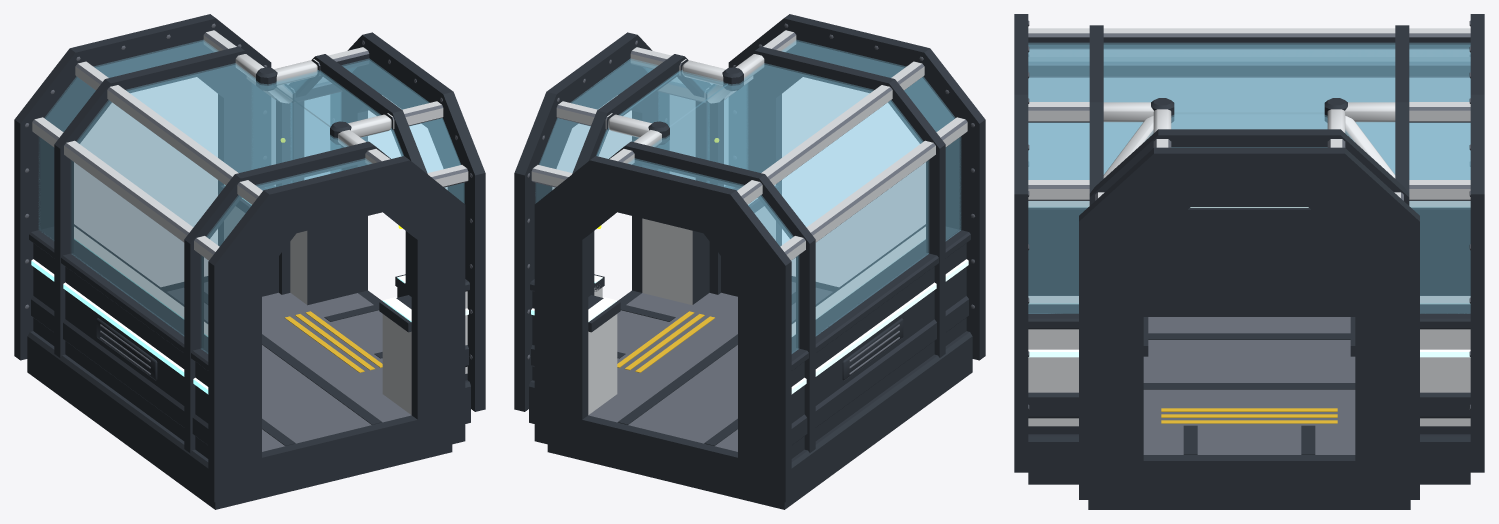
File: Tunnel_T.fbx
The picture shows the model from 3 angles, left to right: view 1: azimuth 30°, elevation 25°; view 2: azimuth 150°, elevation 25°; view 3: azimuth 270°, elevation 25°; orthographic projection. The views are drawn at different scales.
Visible parts, largest first — view 1: Tunnel_T_Body; view 2: Tunnel_T_Body; view 3: Tunnel_T_Body.
Boxes of the visible parts, x1,y1,x2,y2 form: Tunnel_T_Body: [14, 14, 485, 509]; Tunnel_T_Body: [514, 14, 985, 509]; Tunnel_T_Body: [1014, 14, 1484, 509].
Size of the model in its own units: 3.45 by 3.4 by 4.
